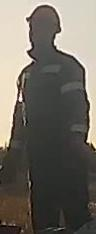gloves: (0, 146, 20, 186), (69, 132, 93, 161)
helmet: (25, 4, 61, 38)
vest: (16, 55, 91, 160)
